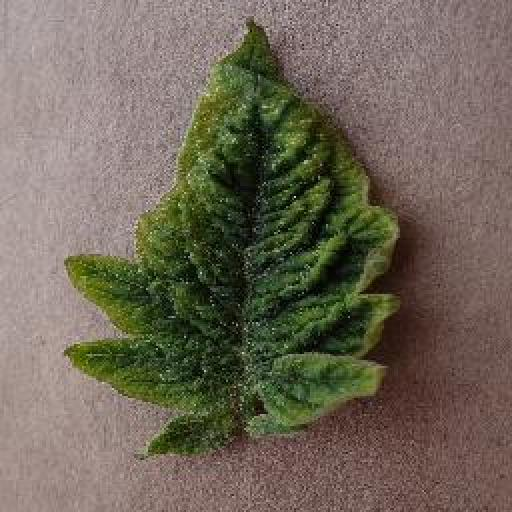disease_tomato: (65, 14, 399, 458)
